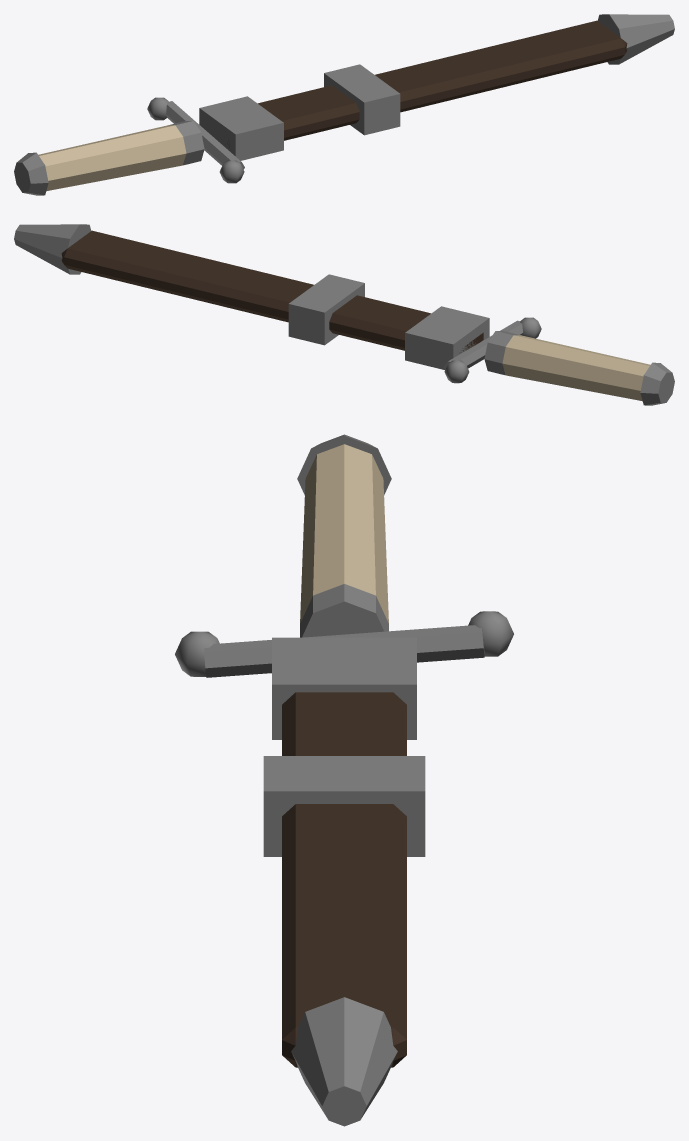
File: facon.glb
3 views of the same model, one above another, from view 1: azimuth 30°, elevation 25°; view 2: azimuth 150°, elevation 25°; view 3: azimuth 270°, elevation 25° (orthographic). The views are drawn at different scales.
Parts seen in each view (by area): view 1: Facon; view 2: Facon; view 3: Facon.
Boxes of the visible parts, x1,y1,x2,y2 form: Facon: (14, 14, 674, 195); Facon: (14, 224, 674, 405); Facon: (175, 434, 513, 1126).
Size of the model in its own units: 0.537 by 0.041 by 0.122.
